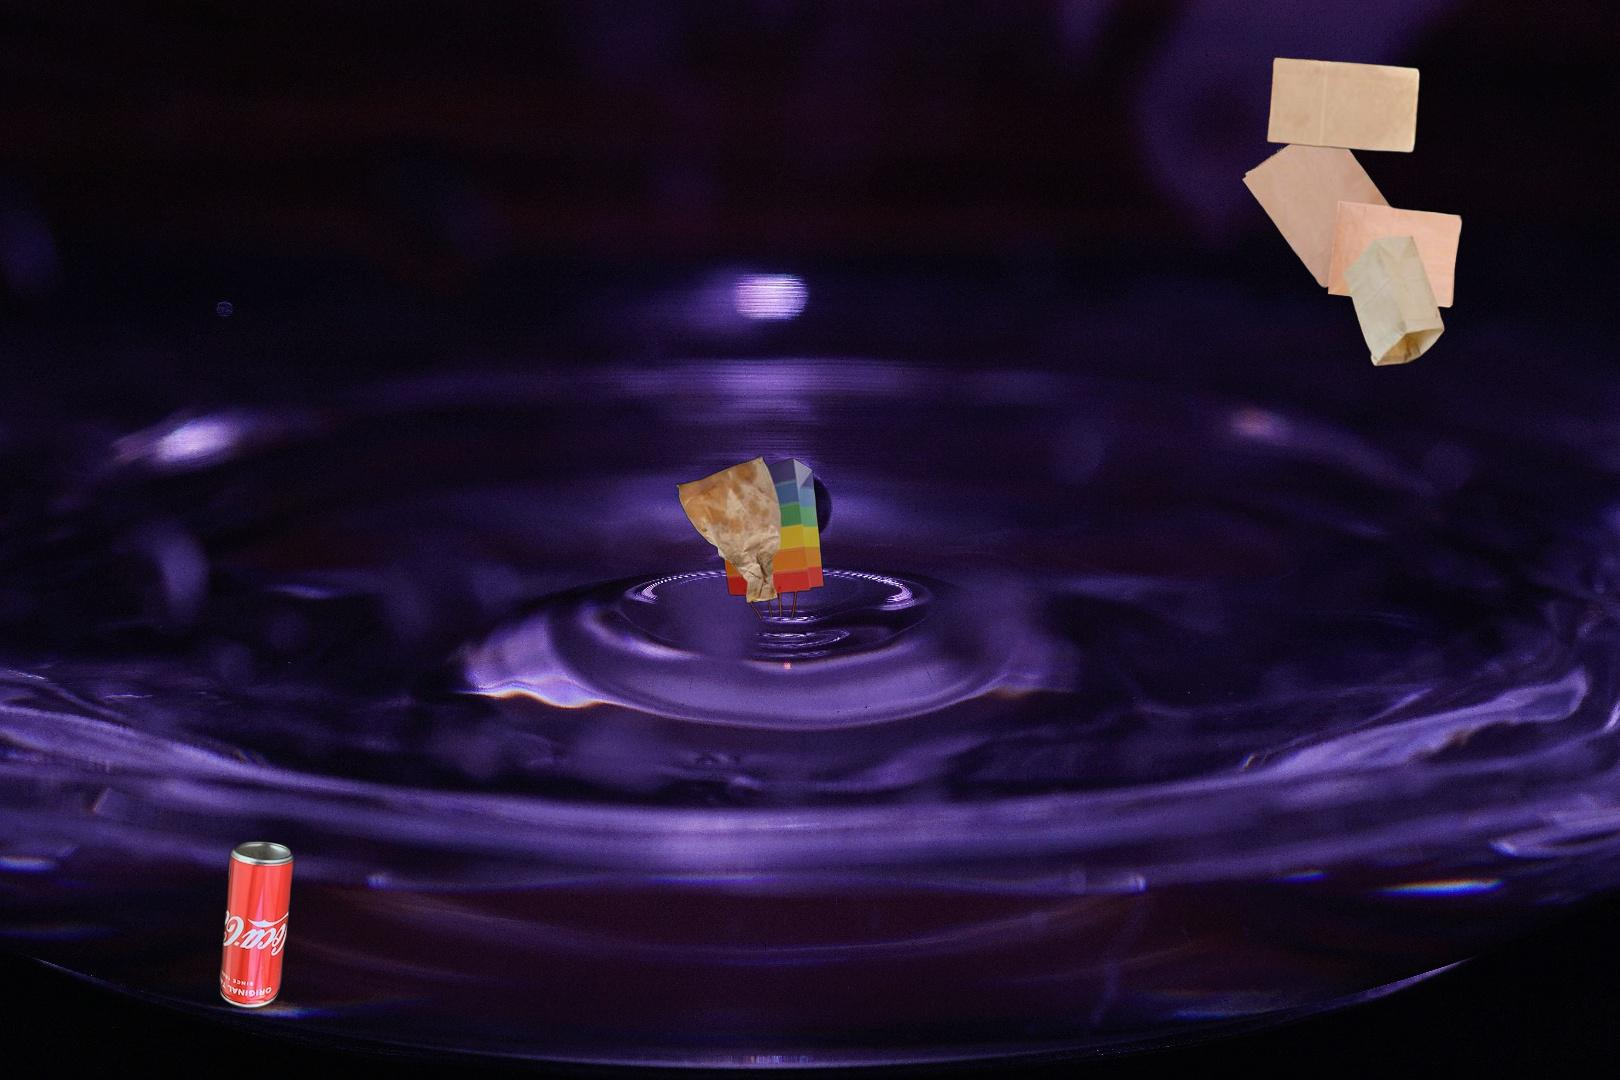metal-cans: (215, 835, 299, 1015)
paper-bag: (1240, 115, 1465, 370), (673, 453, 826, 622), (1264, 55, 1424, 155)
